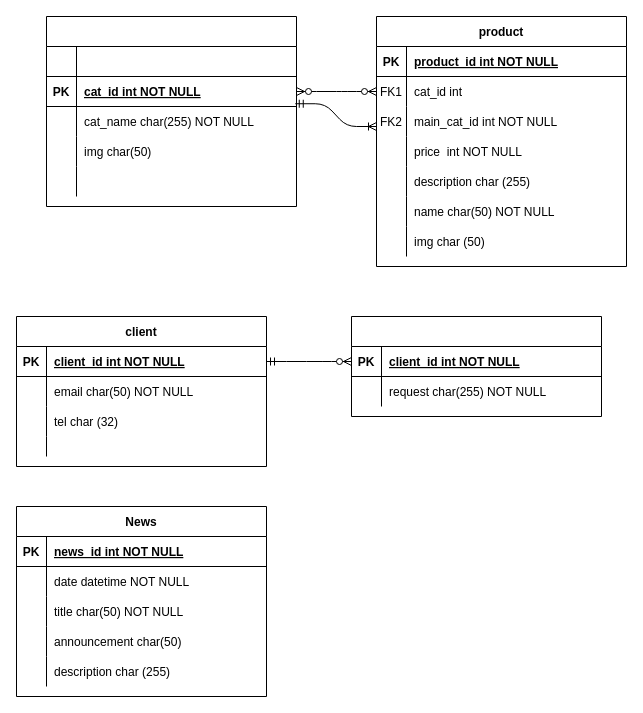
Image size: 643x713. Some labels were removed from this diagram. Here are the shapes that lost their labels. From the top down, the box of each, then its label:
(46, 16, 296, 206): categories
(350, 316, 602, 416): msgs
